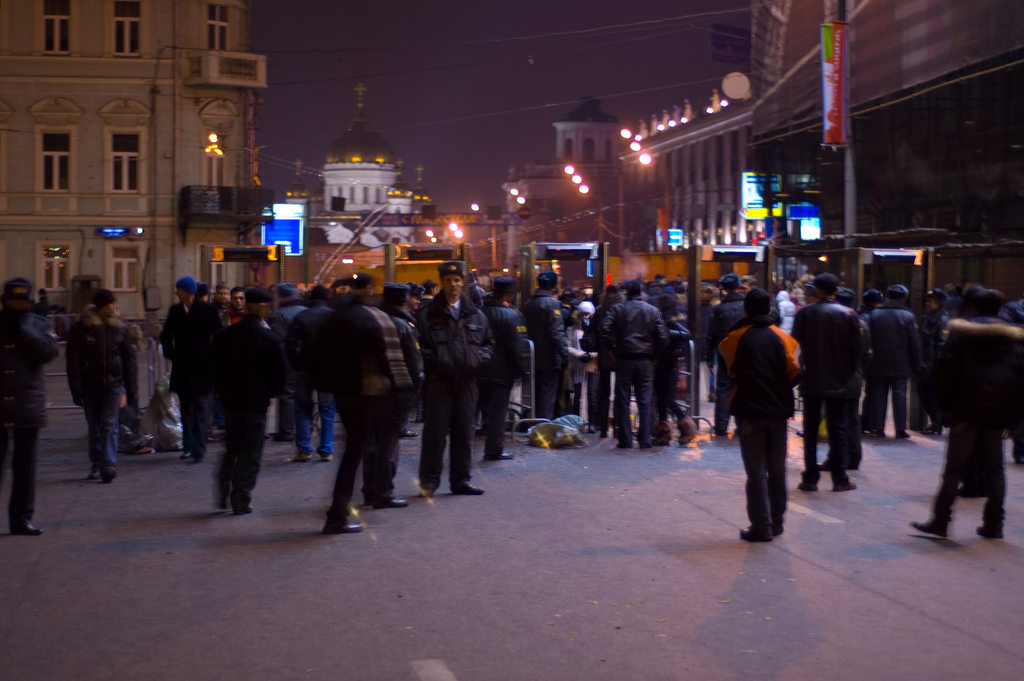Person: (0, 260, 1024, 541)
